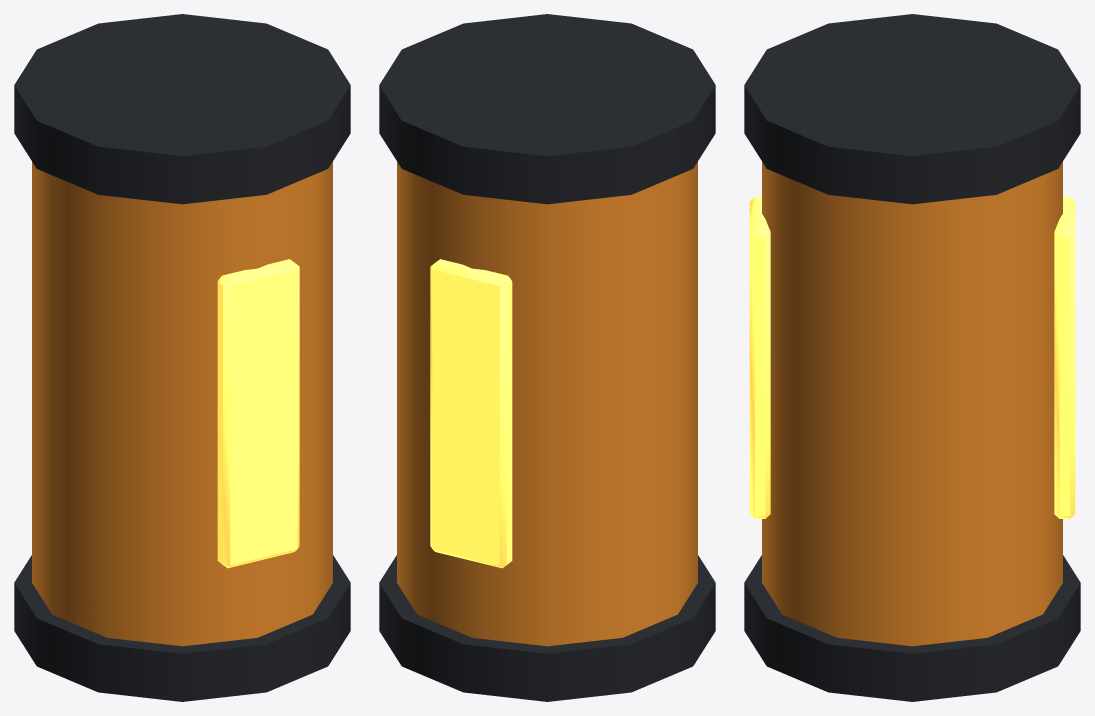
File: prop_canister.glb
The picture shows the model from 3 angles, left to right: view 1: azimuth 30°, elevation 25°; view 2: azimuth 150°, elevation 25°; view 3: azimuth 270°, elevation 25°; orthographic projection.
Visible parts, largest first — view 1: canister; view 2: canister; view 3: canister.
Boxes of the visible parts, x1,y1,x2,y2 form: canister: [14, 14, 350, 701]; canister: [379, 14, 715, 701]; canister: [744, 14, 1080, 701].
Bounding box in the file's own units: 0.19 × 0.34 × 0.19.
